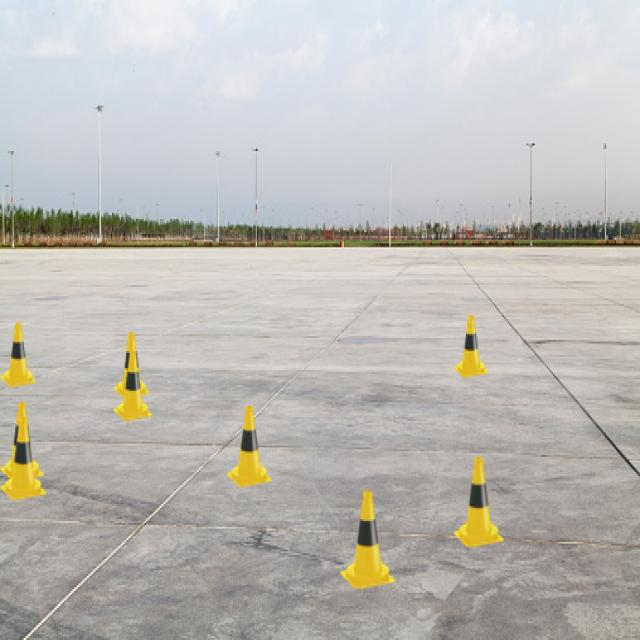yellow_cone: (340, 491, 396, 589), (453, 457, 504, 547), (0, 418, 47, 500), (227, 406, 272, 487), (0, 402, 44, 482), (114, 351, 152, 421), (113, 332, 150, 398), (0, 323, 37, 387), (453, 315, 489, 378)
